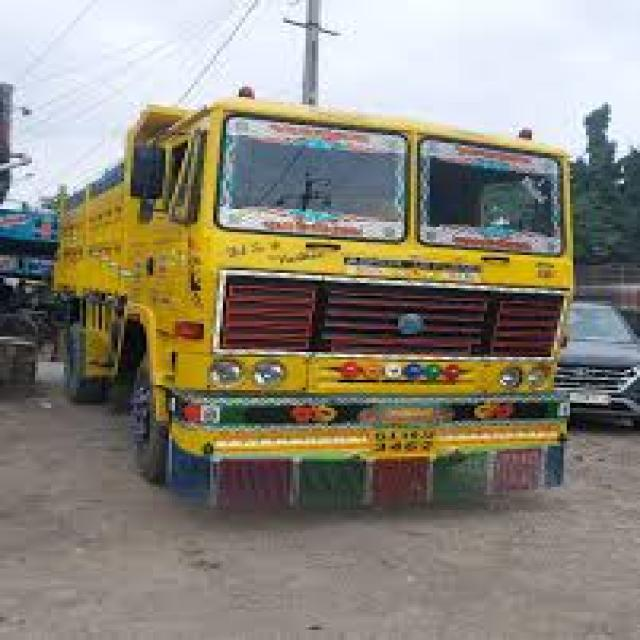Plate: (366, 424, 440, 466)
truck: (49, 86, 577, 513)
